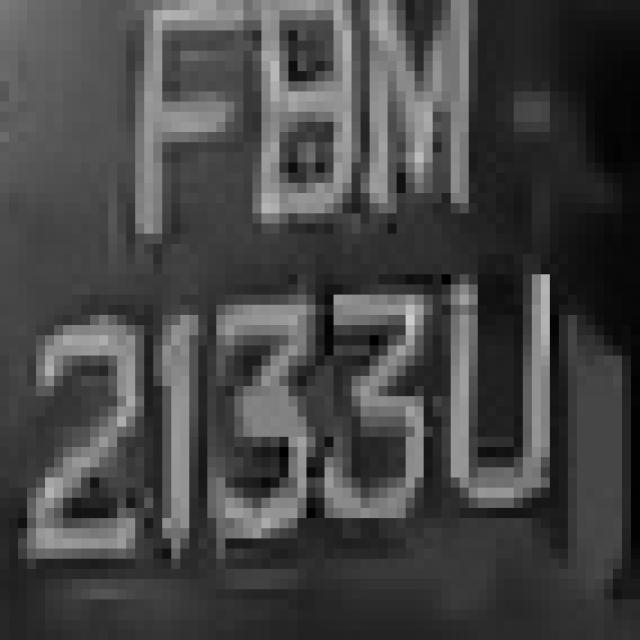1: (154, 264, 208, 610)
2: (9, 305, 144, 589)
3: (306, 264, 442, 549), (217, 254, 316, 559)
B: (243, 20, 369, 224)
F: (126, 10, 244, 244)
M: (352, 10, 486, 254)
U: (433, 264, 577, 518)
